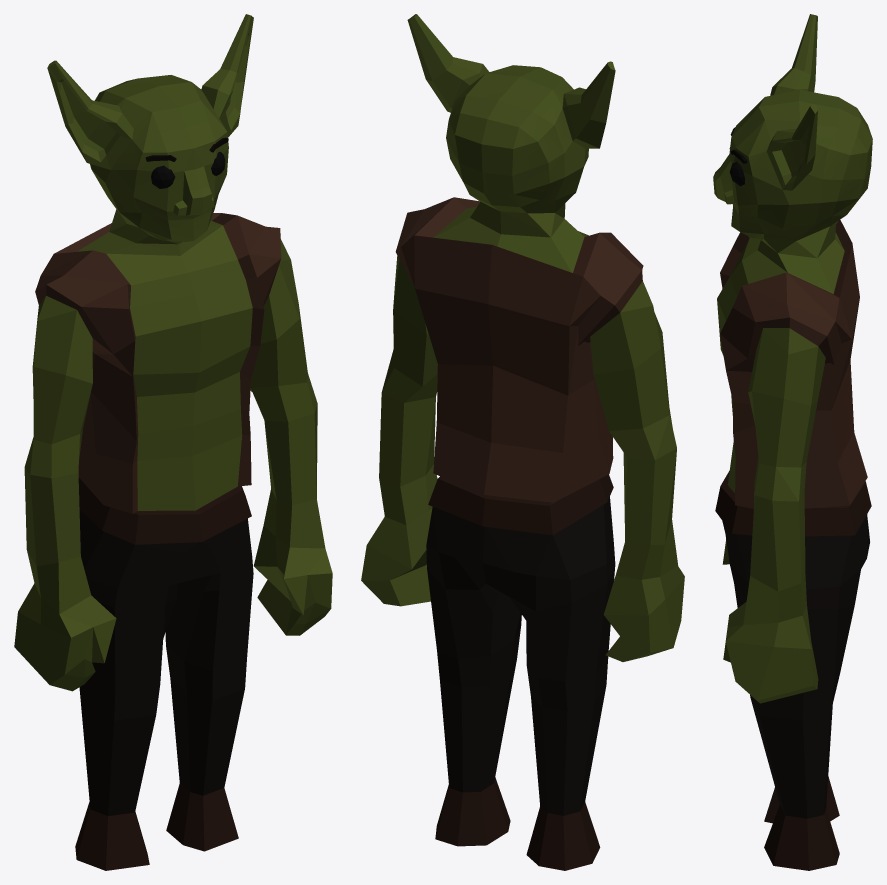
Rendered from Goblin.obj.
The picture shows the model from 3 angles, left to right: view 1: azimuth 30°, elevation 25°; view 2: azimuth 150°, elevation 25°; view 3: azimuth 270°, elevation 25°; orthographic projection. The views are drawn at different scales.
Parts seen in each view (by area): view 1: Goblin.004, GoblinFace_Goblin.000; view 2: Goblin.004; view 3: Goblin.004, GoblinFace_Goblin.000.
Boxes of the visible parts, x1,y1,x2,y2 form: Goblin.004: [14, 14, 332, 870]; GoblinFace_Goblin.000: [145, 137, 228, 188]; Goblin.004: [361, 14, 684, 870]; Goblin.004: [713, 14, 872, 870]; GoblinFace_Goblin.000: [729, 127, 747, 186].
Size of the model in its own units: 2.11 by 5.52 by 1.03.
